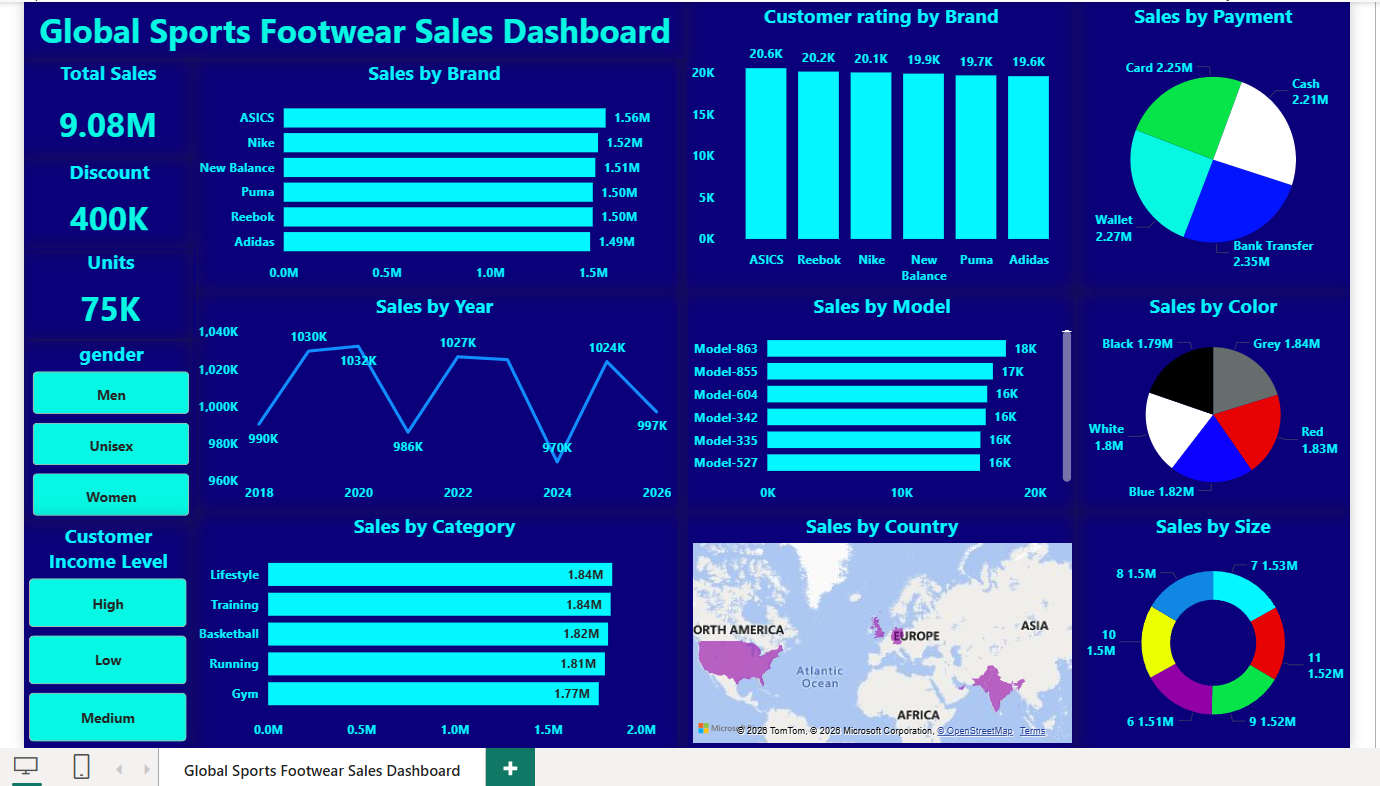

The page's visual inventory and layout, read from the dashboard file:
{"tool":"powerbi","page":{"name":"Global Sports Footwear Sales Dashboard","canvas":[1280,720],"ordinal":0},"visuals":[{"type":"barChart","title":"Sales by Brand","fields":{"Category":["global_sports_footwear_sales_2018_2026.brand"],"Y":["Sum(global_sports_footwear_sales_2018_2026.Sales)"]},"box":[162.9,55.5,466.9,224.4],"z":0},{"type":"pieChart","title":"Sales by Color","fields":{"Category":["global_sports_footwear_sales_2018_2026.color"],"Y":["Sum(global_sports_footwear_sales_2018_2026.Sales)"]},"box":[1015.8,279.9,264.2,212.3],"z":1000},{"type":"donutChart","title":"Sales by Size","fields":{"Category":["global_sports_footwear_sales_2018_2026.size"],"Y":["Sum(global_sports_footwear_sales_2018_2026.Sales)"]},"box":[1015.8,492.2,264.2,228],"z":2000},{"type":"lineChart","title":"Sales by Year","fields":{"Y":["Sum(global_sports_footwear_sales_2018_2026.Sales)"],"Category":["global_sports_footwear_sales_2018_2026.year"]},"box":[162.9,279.9,466.9,212.3],"z":3000},{"type":"columnChart","title":"Customer rating by Brand","fields":{"Category":["global_sports_footwear_sales_2018_2026.brand"],"Y":["Sum(global_sports_footwear_sales_2018_2026.customer_rating)"]},"box":[639.4,0,376.4,279.9],"z":4000},{"type":"barChart","title":" Sales by Model","fields":{"Category":["global_sports_footwear_sales_2018_2026.model_name"],"Y":["Sum(global_sports_footwear_sales_2018_2026.Sales)"]},"box":[640.6,279.9,375.2,212.3],"z":5000},{"type":"filledMap","title":" Sales by Country","fields":{"Category":["global_sports_footwear_sales_2018_2026.country"]},"box":[640.6,492.2,375.2,228],"z":5001},{"type":"cardVisual","title":"Total Sales","fields":{"Data":["Sum(global_sports_footwear_sales_2018_2026.Sales)"]},"box":[0,55.5,162.9,95.3],"z":5002},{"type":"cardVisual","title":"Units","fields":{"Data":["Sum(global_sports_footwear_sales_2018_2026.Units)"]},"box":[2.4,237.7,162.9,88.1],"z":5003},{"type":"cardVisual","title":"Discount","fields":{"Data":["Sum(global_sports_footwear_sales_2018_2026.discount)"]},"box":[1.2,150.8,162.9,86.9],"z":5004},{"type":"pieChart","title":"Sales by Payment","fields":{"Category":["global_sports_footwear_sales_2018_2026.payment_method"],"Y":["Sum(global_sports_footwear_sales_2018_2026.Sales)"]},"box":[1015.8,0,264.2,279.9],"z":5005},{"type":"textbox","box":[0,0,639.4,55.5],"z":5006},{"type":"barChart","title":"Sales by Category","fields":{"Y":["Sum(global_sports_footwear_sales_2018_2026.Sales)"],"Category":["global_sports_footwear_sales_2018_2026.category"]},"box":[162.9,492.2,466.9,228],"z":5007},{"type":"advancedSlicerVisual","fields":{"Values":["global_sports_footwear_sales_2018_2026.gender"]},"box":[3.6,326.9,161.7,174.9],"z":5008},{"type":"advancedSlicerVisual","title":"Customer Income Level","fields":{"Values":["global_sports_footwear_sales_2018_2026.customer_income_level"]},"box":[0,501.9,162.9,218.4],"z":5009}]}

Visuals, with their boxes on the page's 1280x720 design canvas (x1, y1, x2, y2). These are canvas units, not pixel positions in the 1380x786 screenshot, which may show the page scaled, cropped or inside an application window:
"Sales by Brand" barChart: l=163, t=56, r=630, b=280
"Sales by Color" pieChart: l=1016, t=280, r=1280, b=492
"Sales by Size" donutChart: l=1016, t=492, r=1280, b=720
"Sales by Year" lineChart: l=163, t=280, r=630, b=492
"Customer rating by Brand" columnChart: l=639, t=0, r=1016, b=280
" Sales by Model" barChart: l=641, t=280, r=1016, b=492
" Sales by Country" filledMap: l=641, t=492, r=1016, b=720
"Total Sales" cardVisual: l=0, t=56, r=163, b=151
"Units" cardVisual: l=2, t=238, r=165, b=326
"Discount" cardVisual: l=1, t=151, r=164, b=238
"Sales by Payment" pieChart: l=1016, t=0, r=1280, b=280
textbox: l=0, t=0, r=639, b=56
"Sales by Category" barChart: l=163, t=492, r=630, b=720
advancedSlicerVisual - global_sports_footwear_sales_2018_2026.gender: l=4, t=327, r=165, b=502
"Customer Income Level" advancedSlicerVisual: l=0, t=502, r=163, b=720
